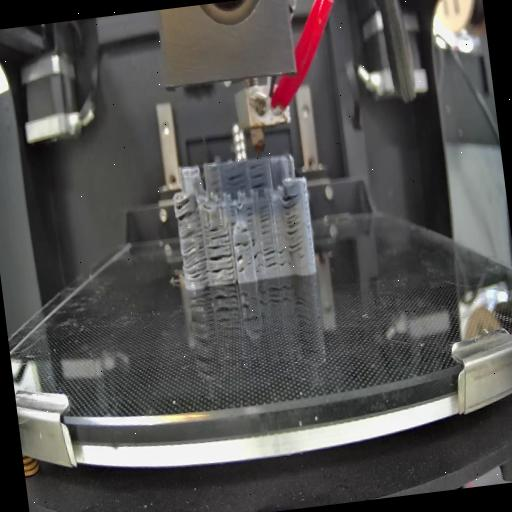cracks: (282, 193, 308, 261), (178, 231, 208, 284), (206, 240, 236, 284), (247, 163, 270, 192), (207, 222, 232, 244), (251, 232, 264, 274), (174, 200, 198, 222), (258, 202, 272, 236), (228, 170, 249, 192), (263, 246, 279, 270), (234, 252, 247, 276), (278, 243, 288, 270), (226, 205, 238, 227), (244, 204, 256, 224), (234, 238, 250, 250), (212, 180, 220, 194), (240, 228, 250, 234)
